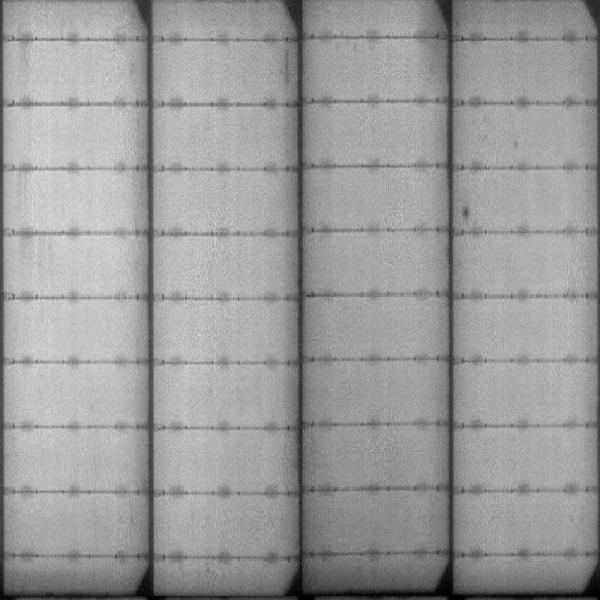scratch: (283, 42, 297, 91)
